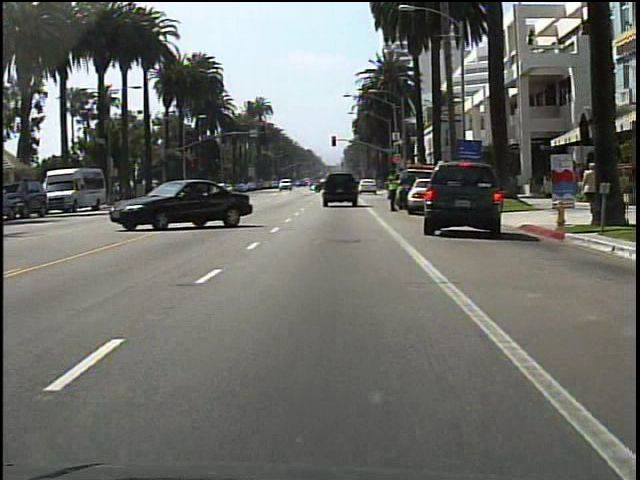person: (578, 161, 599, 218), (385, 171, 403, 218)
